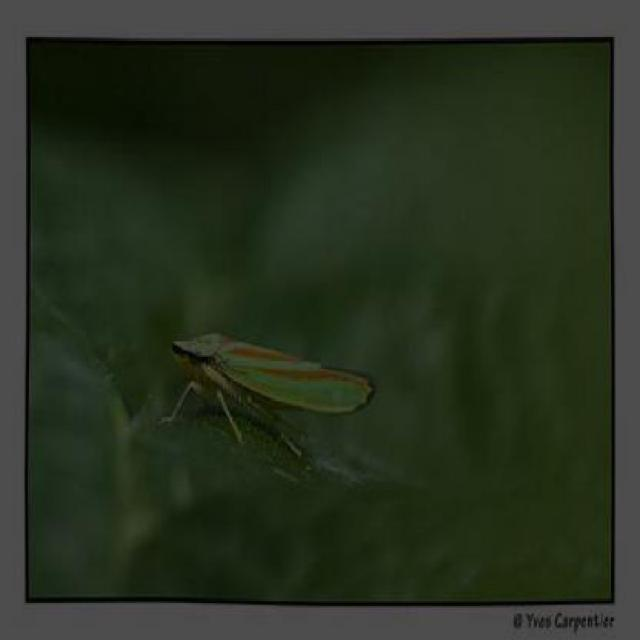green-leafhopper: (164, 323, 376, 459)
